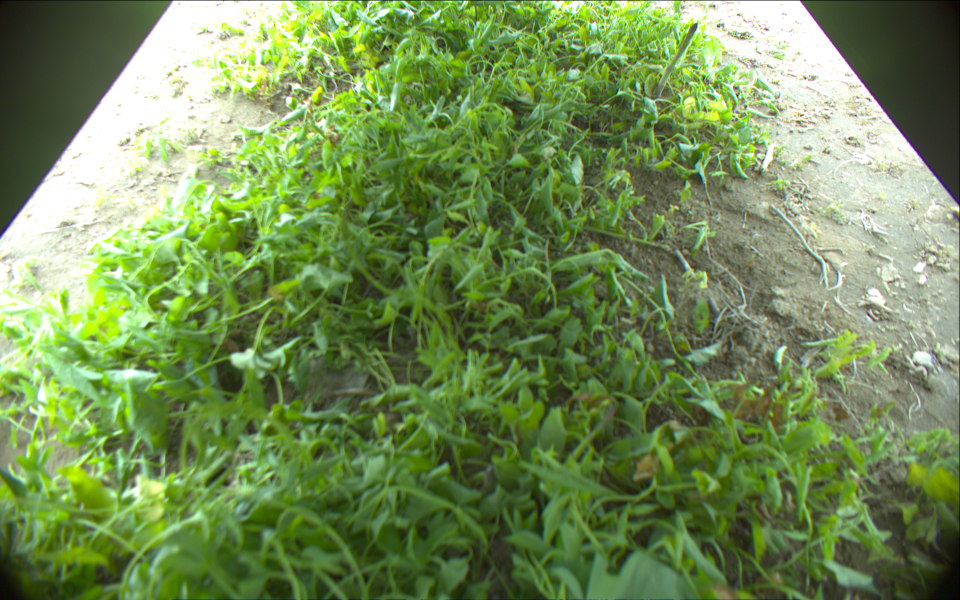aspa: (649, 22, 702, 97)
